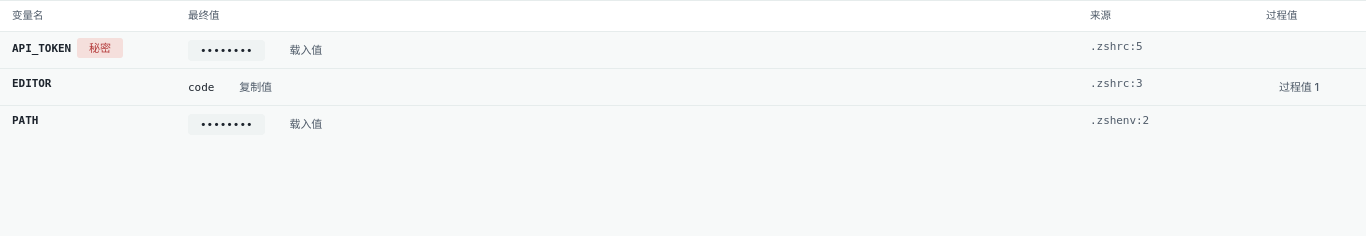
Test: copying variable values › copies a plain value exactly from the final column and from a chain step
Click the button "过程值 1".
click(1299, 87)  # box [1266,75,1332,99]
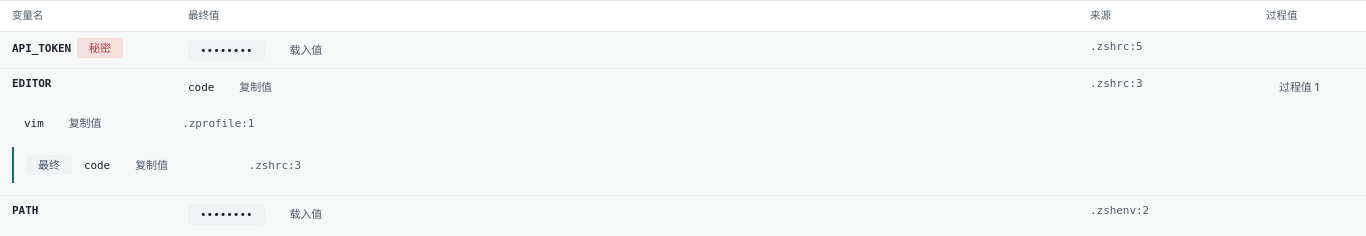
Click the button with aria-label "复制 EDITOR 的值".
click(256, 87)  # box [226,75,285,99]
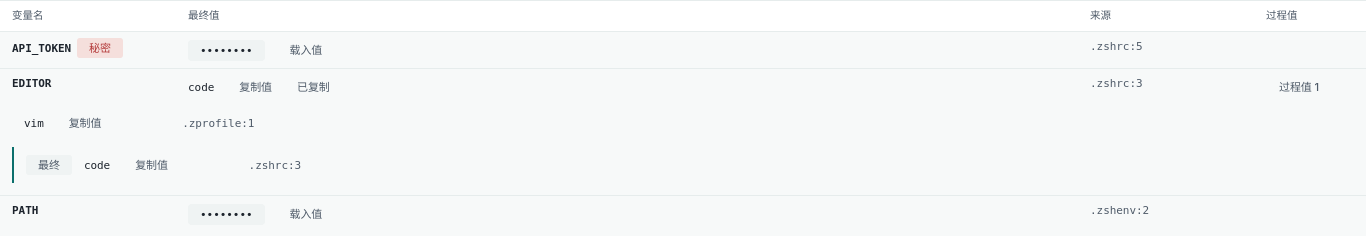
Click the button with aria-label "复制 EDITOR 的值".
click(85, 123)  # box [56,111,114,135]
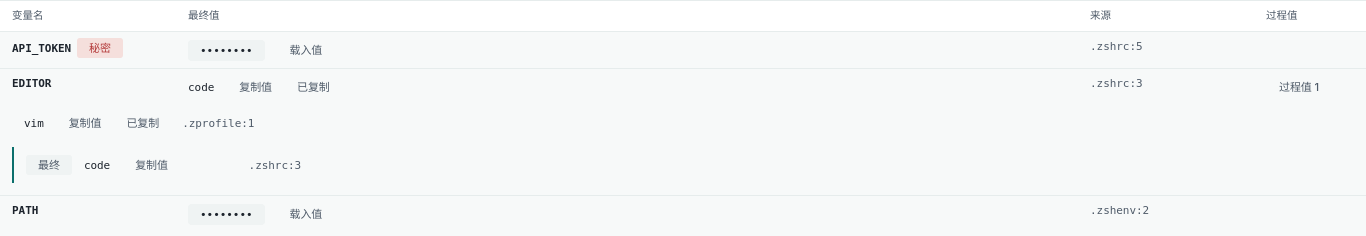
Expected: the message "已复制" in the row of "vim" is shown, [126,116,159,130]
